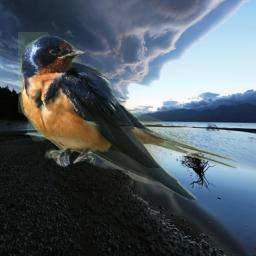Swallow: (18, 32, 239, 200)
